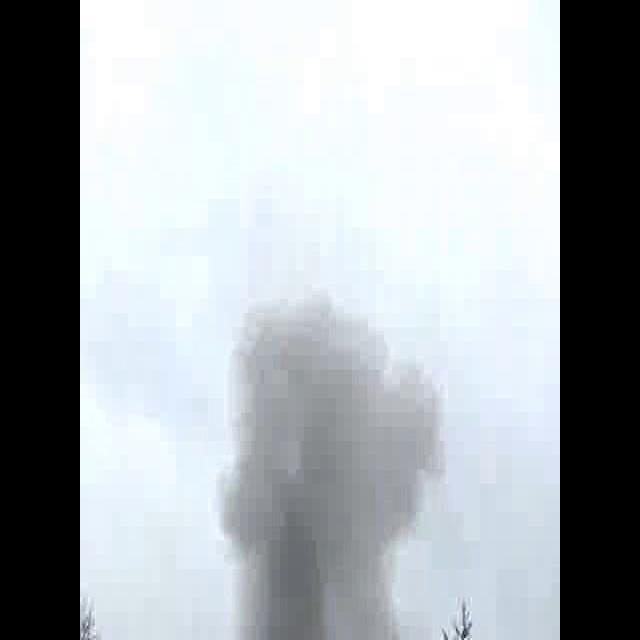Smoke: (212, 272, 448, 640)
